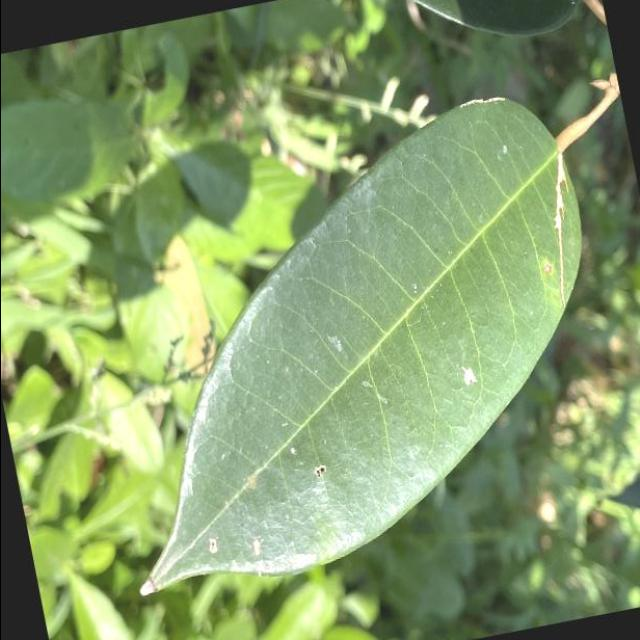No Disease: (54, 74, 640, 616)
